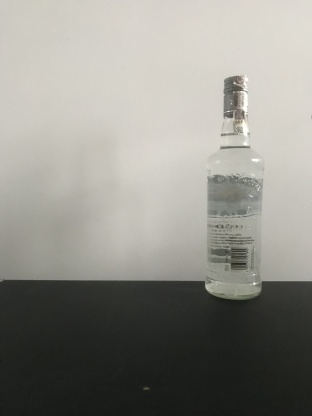nakretka: (221, 72, 250, 118)
